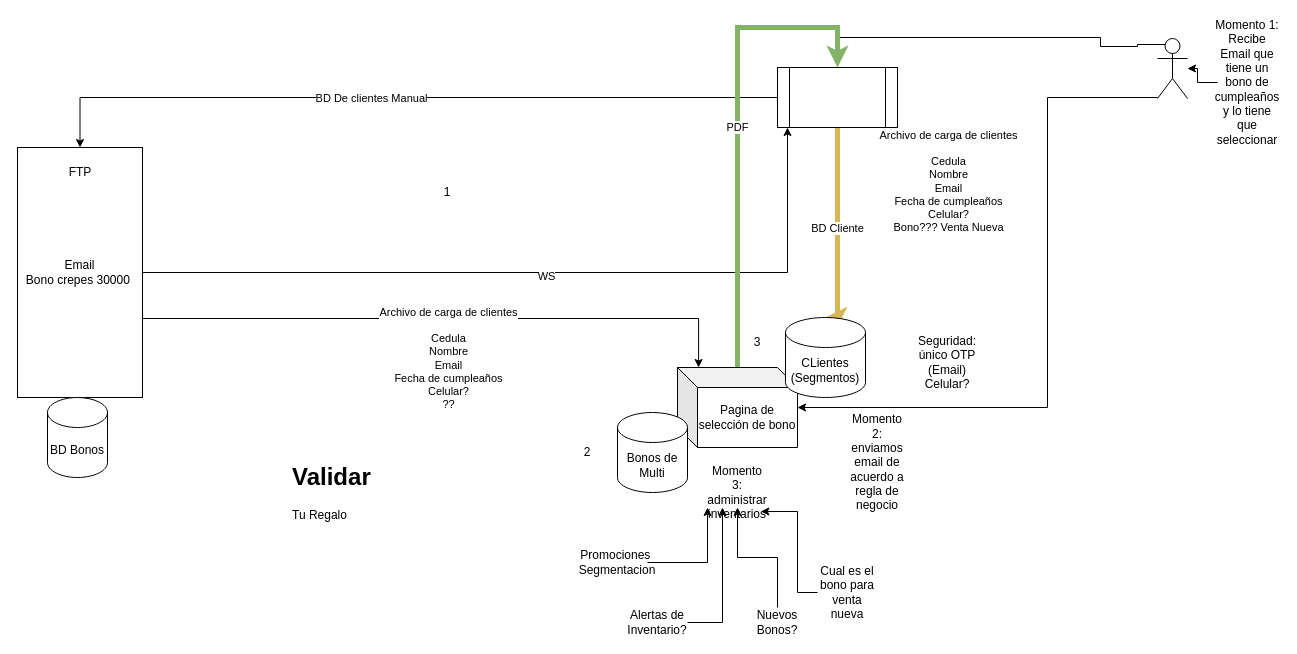
This 1297x654 diagram has some shape labels left out. Here are the shapes that lost their labels. From the top down, the centre of each, then its label:
At pixel 1172 68: "Cliente".
At pixel 837 97: "MKT Cloud".
